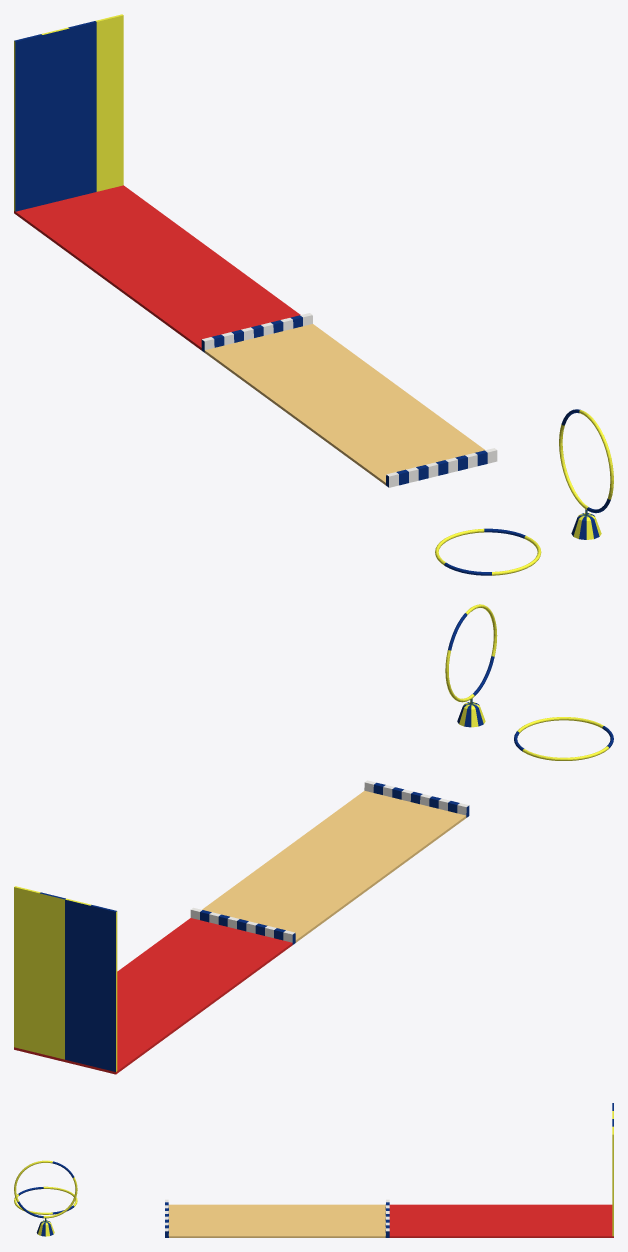
The model's file is Europe Platforms.fbx.
3 renders of one model, top to bottom at view 1: azimuth 30°, elevation 25°; view 2: azimuth 150°, elevation 25°; view 3: azimuth 270°, elevation 25°, orthographic. The views are drawn at different scales.
Parts seen in each view (by area): view 1: Cube.003, l corner.002, r corner.002, sand fill.004, sand fill.019, sand fill.037, sand fill.008, Cylinder.007, Cylinder.009; view 2: Cube.003, r corner.002, l corner.002, sand fill.008, sand fill.004, sand fill.019, sand fill.037, Cylinder.007, Cylinder.009; view 3: l corner.002, sand fill.019, sand fill.008, r corner.002, sand fill.004, sand fill.037, Cylinder.007, Cylinder.009, Cube.003.
Part boxes in pixels (<box>): Cube.003: <box>14,14,123,211</box>; l corner.002: <box>201,313,371,395</box>; r corner.002: <box>326,413,497,487</box>; sand fill.004: <box>264,367,434,441</box>; sand fill.019: <box>76,230,246,304</box>; sand fill.037: <box>14,185,184,258</box>; sand fill.008: <box>139,276,300,350</box>; Cylinder.007: <box>559,409,613,539</box>; Cylinder.009: <box>435,528,541,575</box>; Cube.003: <box>14,886,117,1071</box>; r corner.002: <box>309,780,469,858</box>; l corner.002: <box>190,875,351,944</box>; sand fill.008: <box>132,918,292,987</box>; sand fill.004: <box>250,831,410,901</box>; sand fill.019: <box>117,961,233,1030</box>; sand fill.037: <box>14,1015,174,1074</box>; Cylinder.007: <box>445,604,497,727</box>; Cylinder.009: <box>514,717,613,760</box>; l corner.002: <box>314,1199,389,1237</box>; sand fill.019: <box>464,1204,539,1237</box>; sand fill.008: <box>389,1204,464,1237</box>; r corner.002: <box>165,1199,239,1237</box>; sand fill.004: <box>240,1204,314,1237</box>; sand fill.037: <box>539,1204,613,1237</box>; Cylinder.007: <box>14,1160,77,1236</box>; Cylinder.009: <box>14,1186,77,1214</box>; Cube.003: <box>612,1103,613,1236</box>.
Bounding box in the file's own units: 291 × 305 × 1604.
